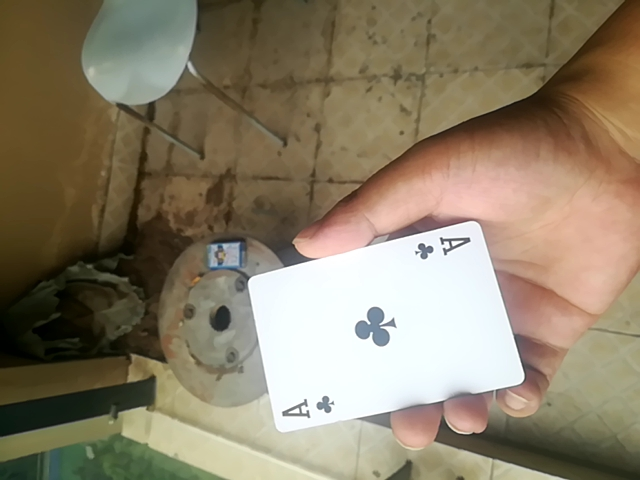mh a: (243, 220, 517, 431)
